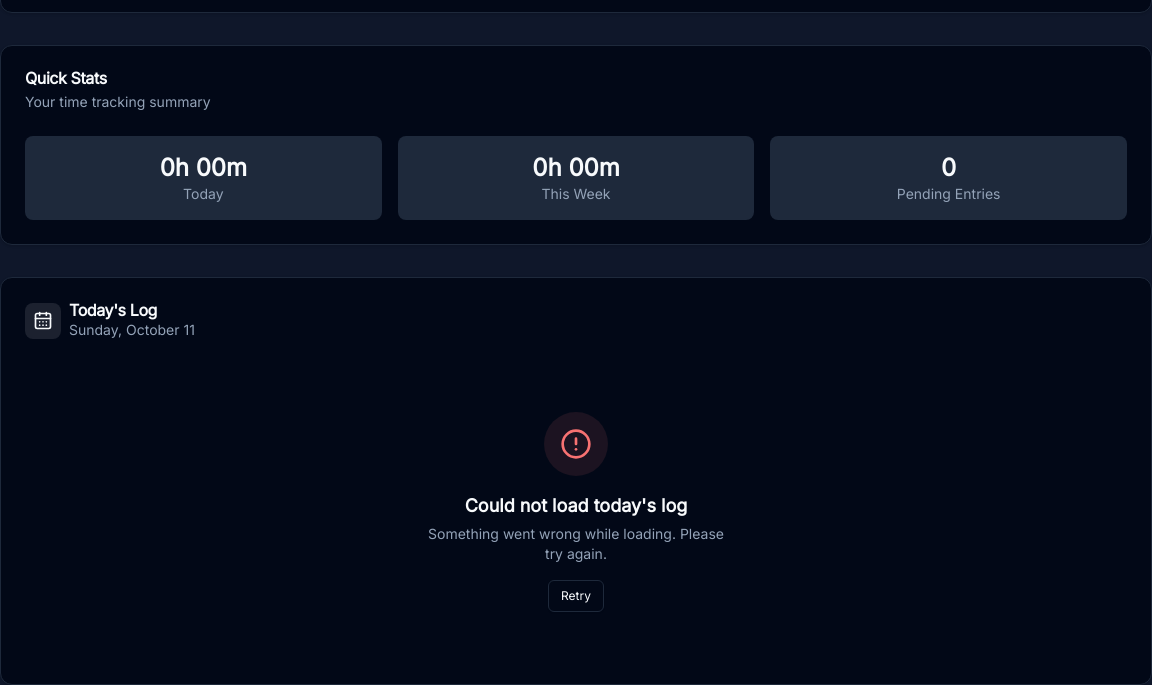
Test: HomePage load failure (UX-403) › shows the daily error state, retries loadDailyData and clears it on a successful retry
The image size is (1152, 685).
(page scrolled)
Expected: the heading "Could not load today's log" is shown, top-left (465, 492), bottom-right (687, 520)
Click the button "Retry": {"x": 576, "y": 596} top-left (548, 580), bottom-right (604, 612)
(page scrolled)
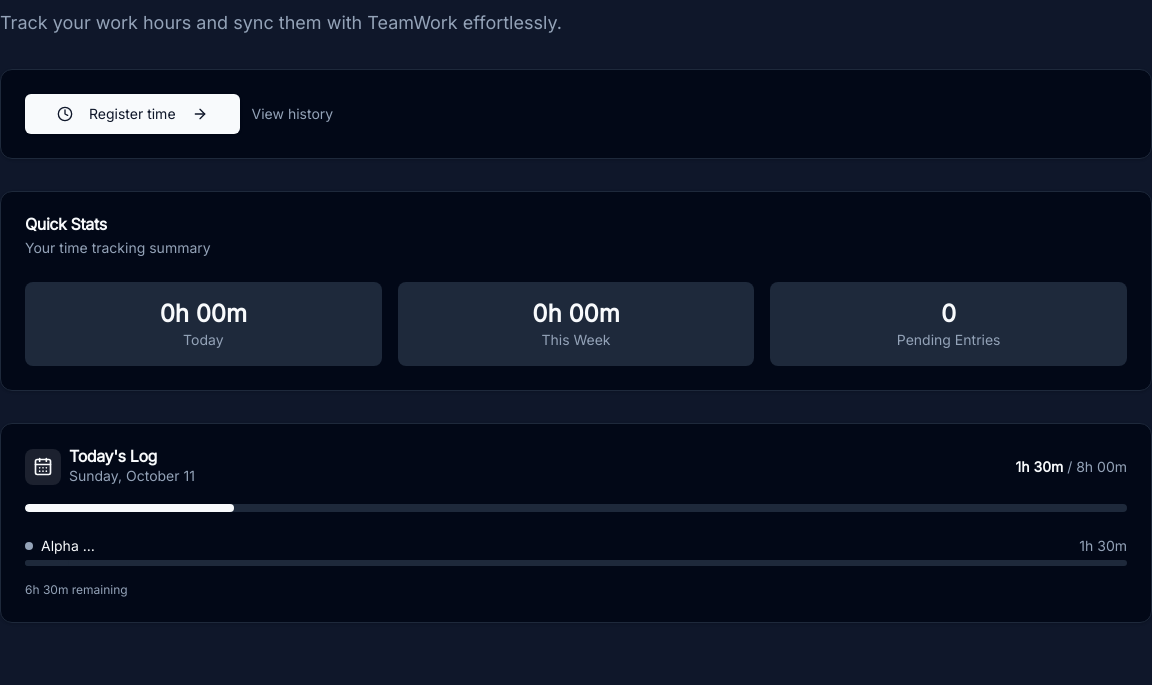
Result: the heading "Could not load today's log" is gone
Result: the text "Alpha Task" is shown at top-left (41, 536), bottom-right (99, 556)
